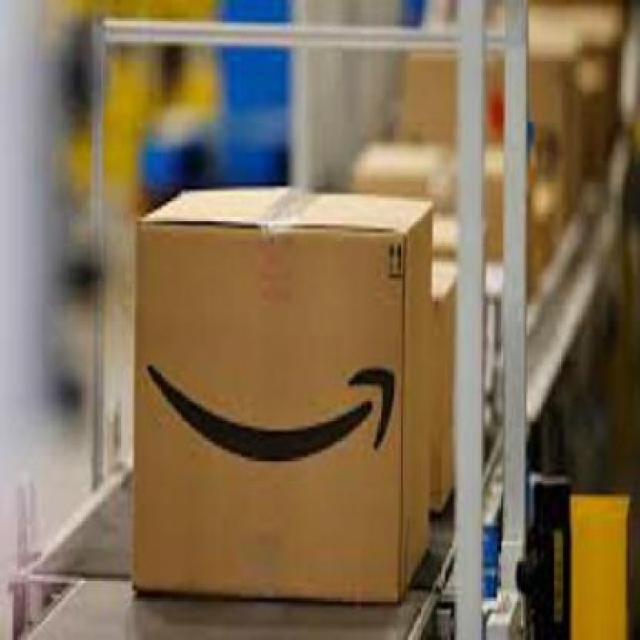box: (123, 168, 432, 616)
